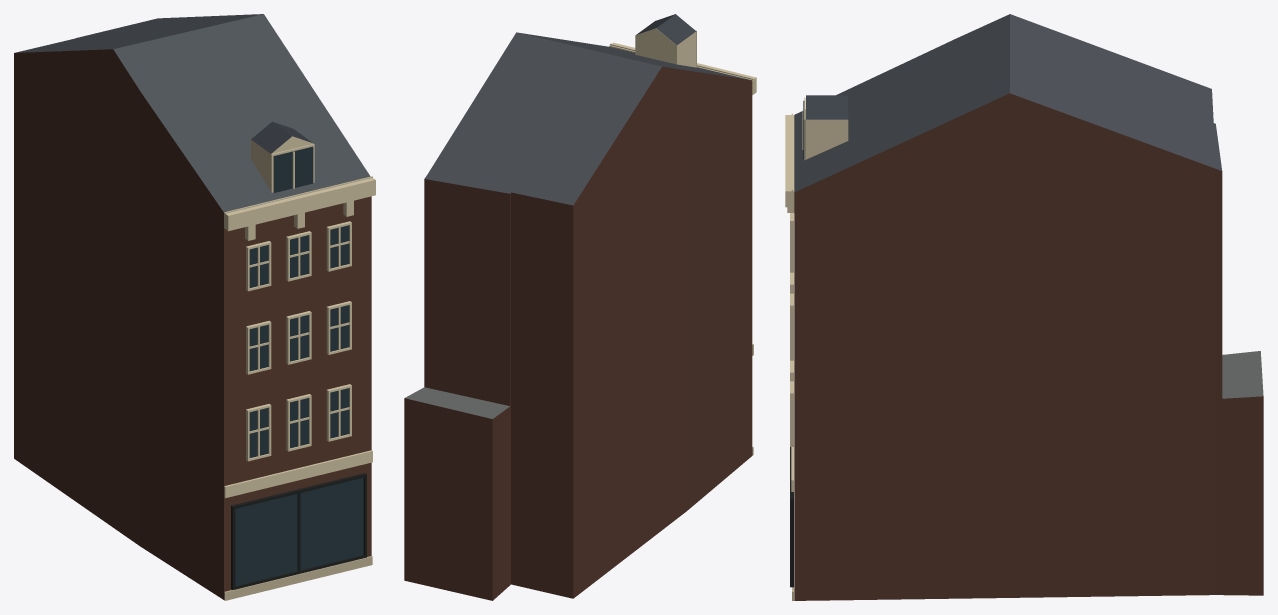
The model's file is recipe-bilder-154127.glb.
3 views of the same model, side by side, from view 1: azimuth 30°, elevation 25°; view 2: azimuth 150°, elevation 25°; view 3: azimuth 270°, elevation 25° (orthographic). The views are drawn at different scales.
Visible parts, largest first — view 1: bilder-154127; view 2: bilder-154127; view 3: bilder-154127.
Boxes of the visible parts, x1=… form: bilder-154127: x1=14, y1=14, x2=375, y2=600; bilder-154127: x1=404, y1=14, x2=756, y2=600; bilder-154127: x1=785, y1=14, x2=1263, y2=600.
Size of the model in its own units: 5.99 by 17.09 by 14.63.
